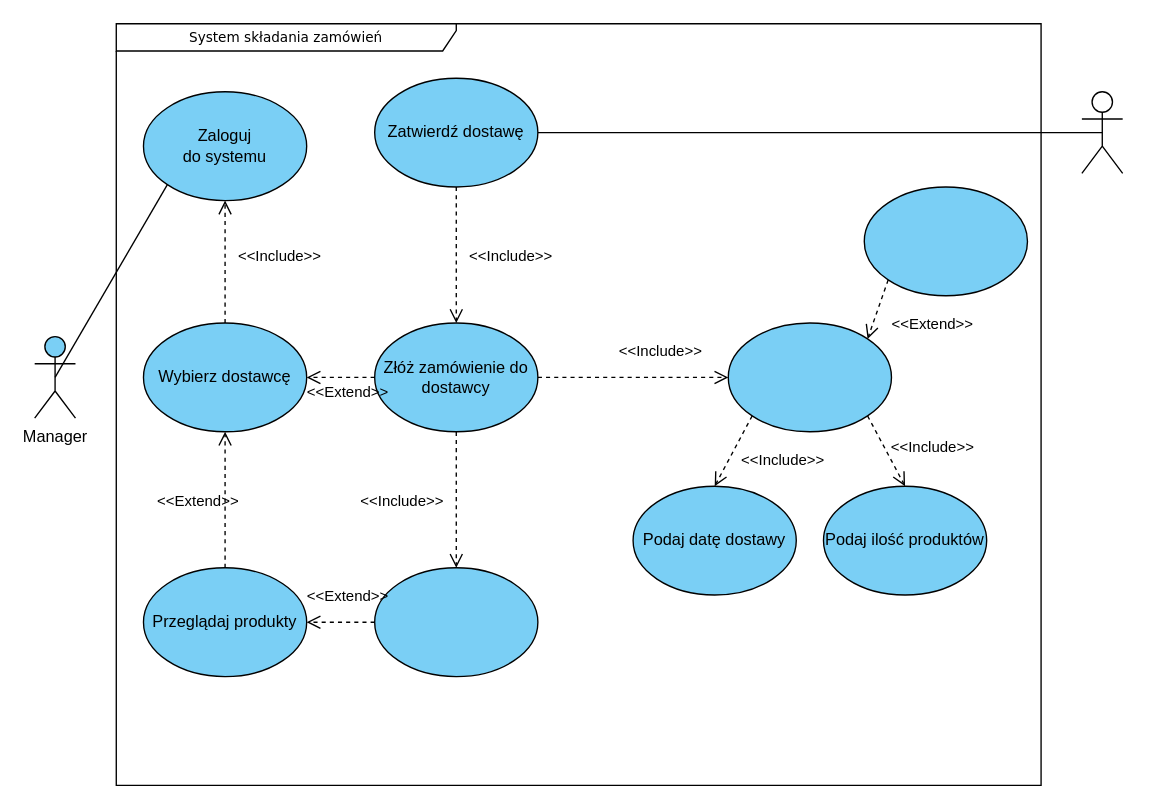
This 1161x809 diagram has some shape labels left out. Here are the shapes that lost their labels. From the top down, the centre of each, then its label:
the point at 1102,131: Dostawca
the point at 945,241: Poproś o fakturę
the point at 809,377: Dostosuj opcje dostawy
the point at 455,621: Wybierz produkty
